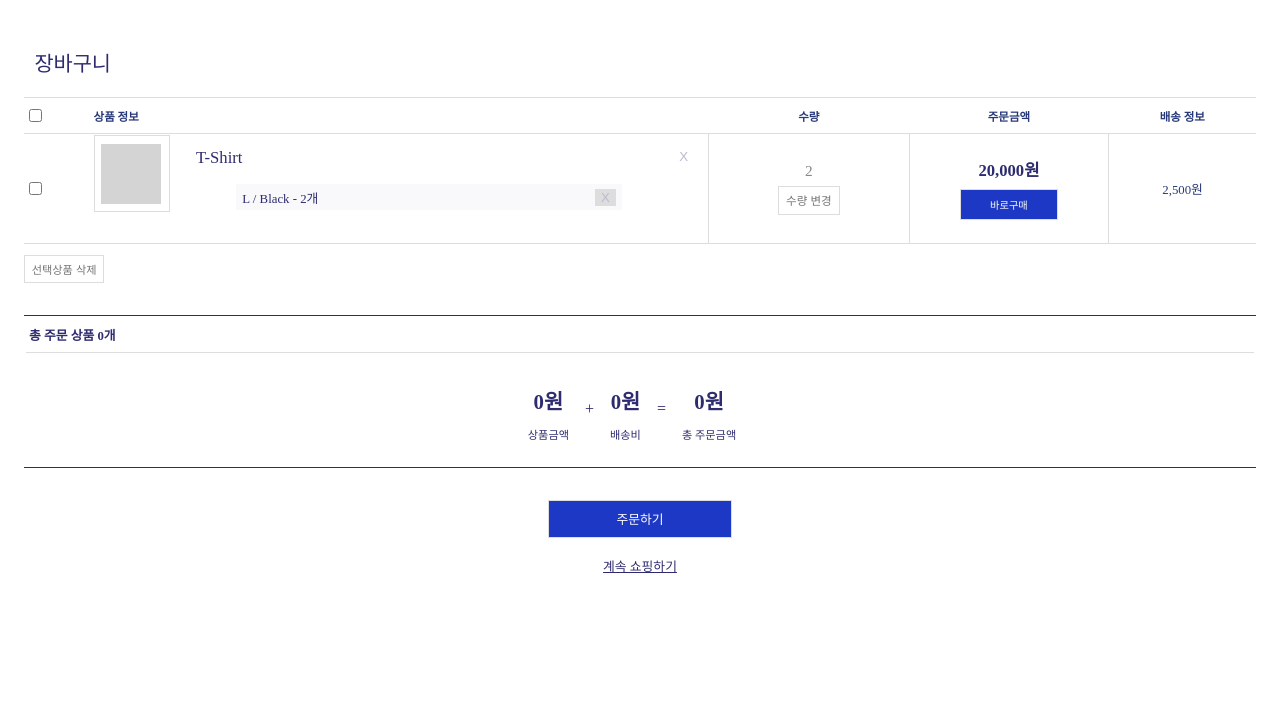
Cart › 수량 변경 › 수량을 감소시키는 경우 › 아이템의 수량이 감소되고 상품금액이 감소된 것을 볼 수 있다
Check: the text "2" is shown, box top-left (805, 162), bottom-right (813, 180)
Check: the text "20,000원" is shown, box top-left (978, 157), bottom-right (1039, 181)
Step 1. Click the button "수량 변경" → (809, 200), box top-left (778, 186), bottom-right (840, 215)
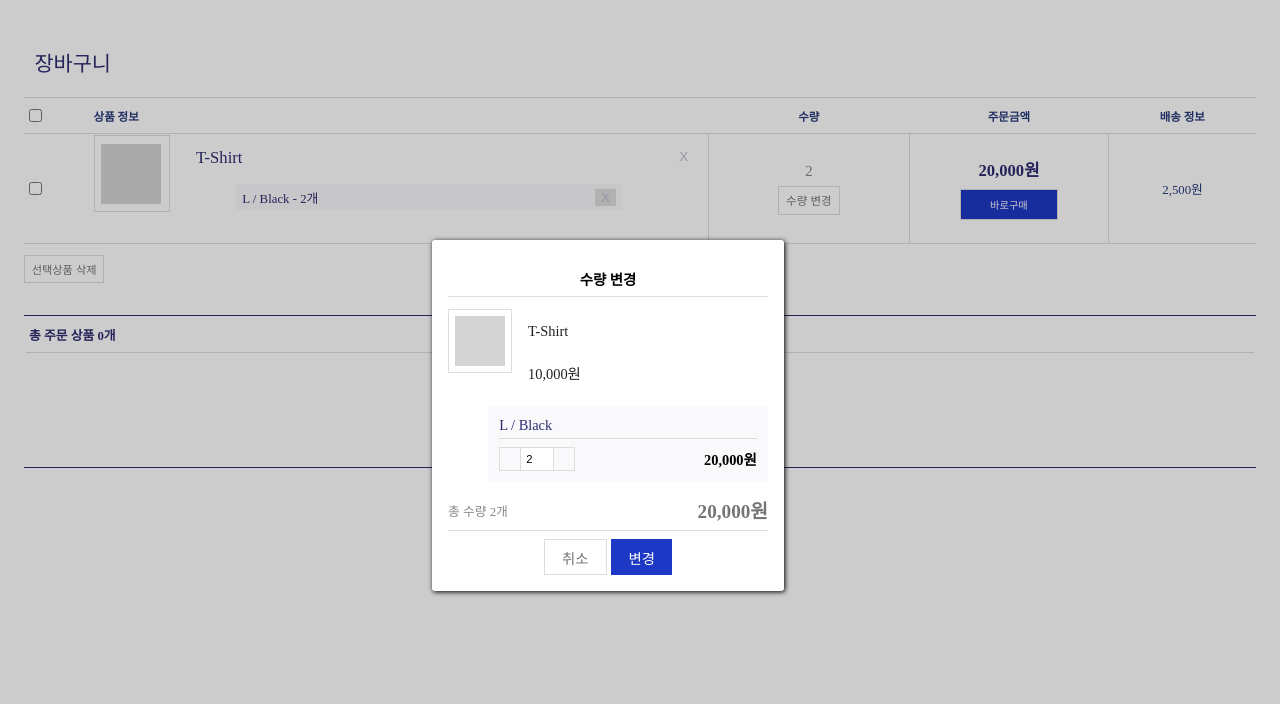
Step 2. Click the button "-" → (510, 458), box top-left (500, 448), bottom-right (520, 468)
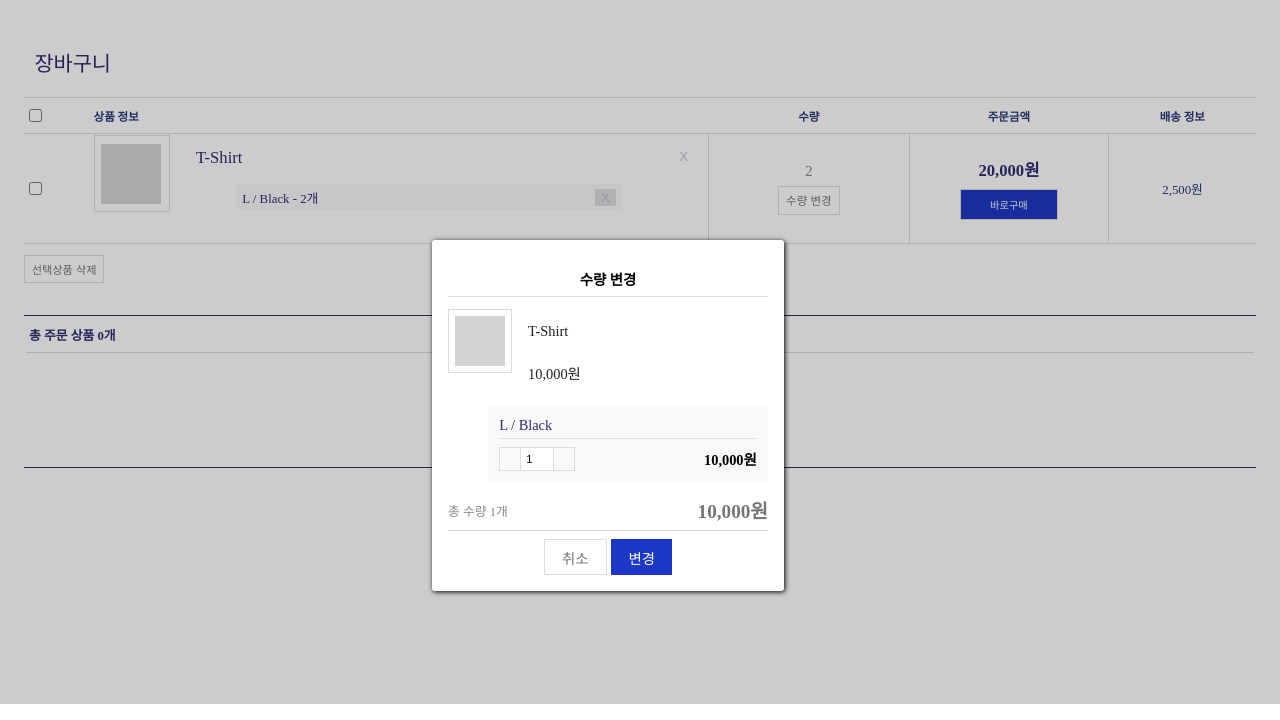
Step 3. Click the button "변경" → (642, 557), box top-left (611, 539), bottom-right (672, 575)
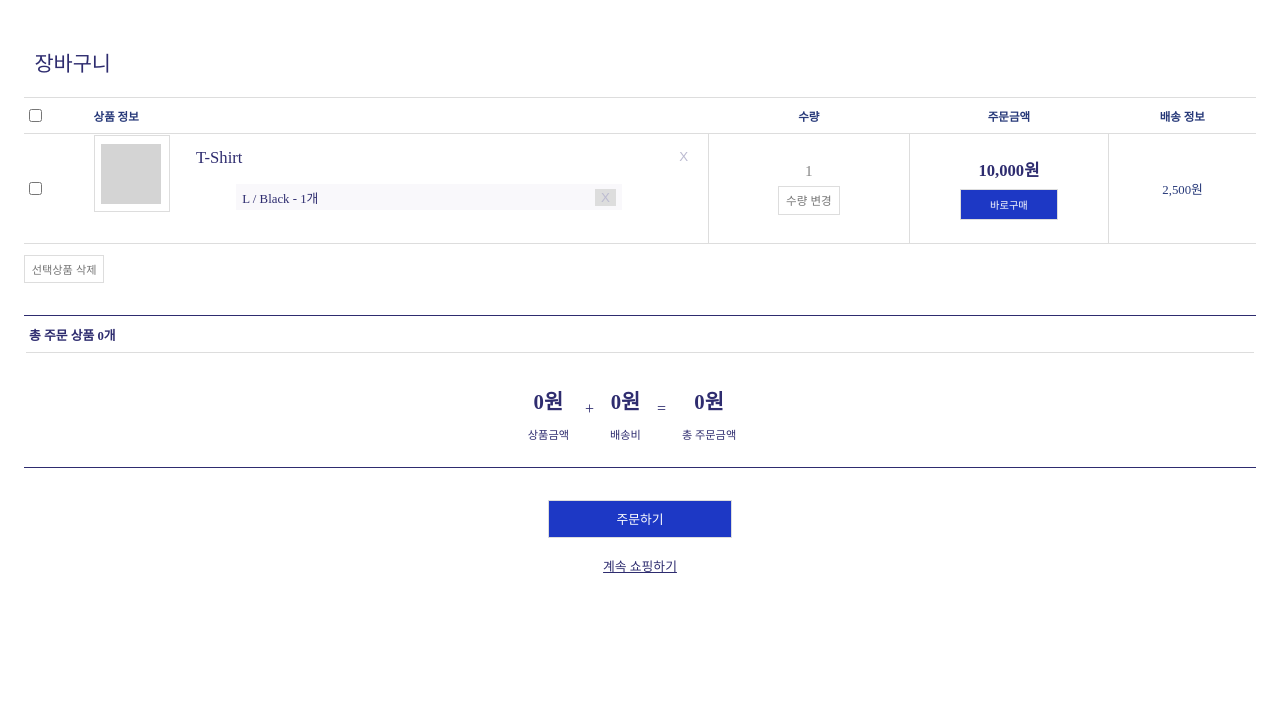
Check: the text "1" is shown, box top-left (805, 162), bottom-right (813, 180)
Check: the text "10,000원" is shown, box top-left (978, 157), bottom-right (1039, 181)
